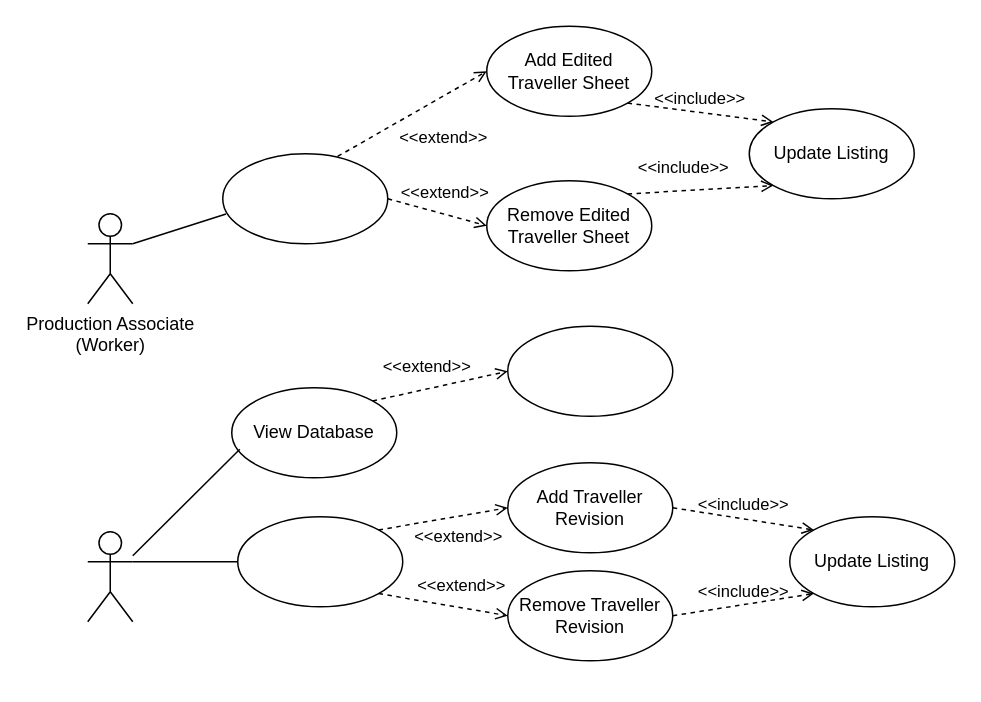
Some shapes in this 981 by 702 pixel diagram are drawn without their labels. Each missing label, with the box of its shape:
Export To Excel: (506, 325, 673, 416)
Head of Production (Management): (86, 530, 133, 622)
View Traveller Revisions: (236, 515, 403, 607)
View Travellers: (221, 152, 388, 244)
